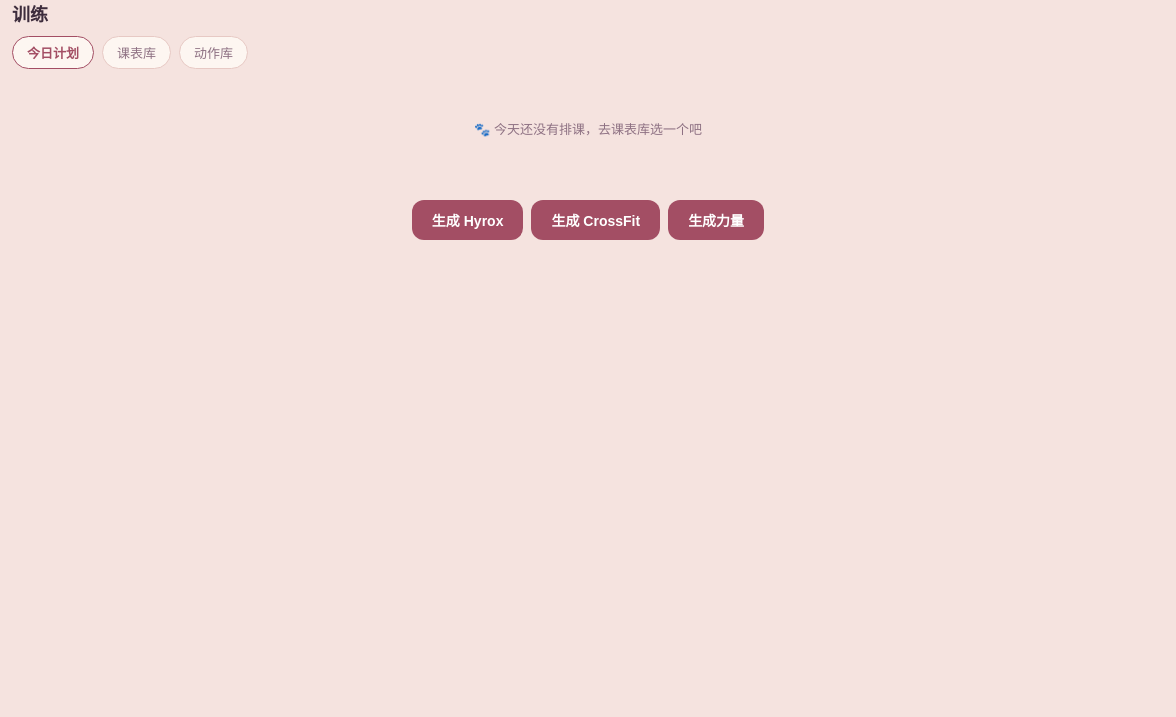
Test case: TrainView 动作库 › 点开分类板块 → 展示该分类下动作列表
The image size is (1176, 717).
Click the button "动作库": (214, 52) top-left (179, 36), bottom-right (248, 69)
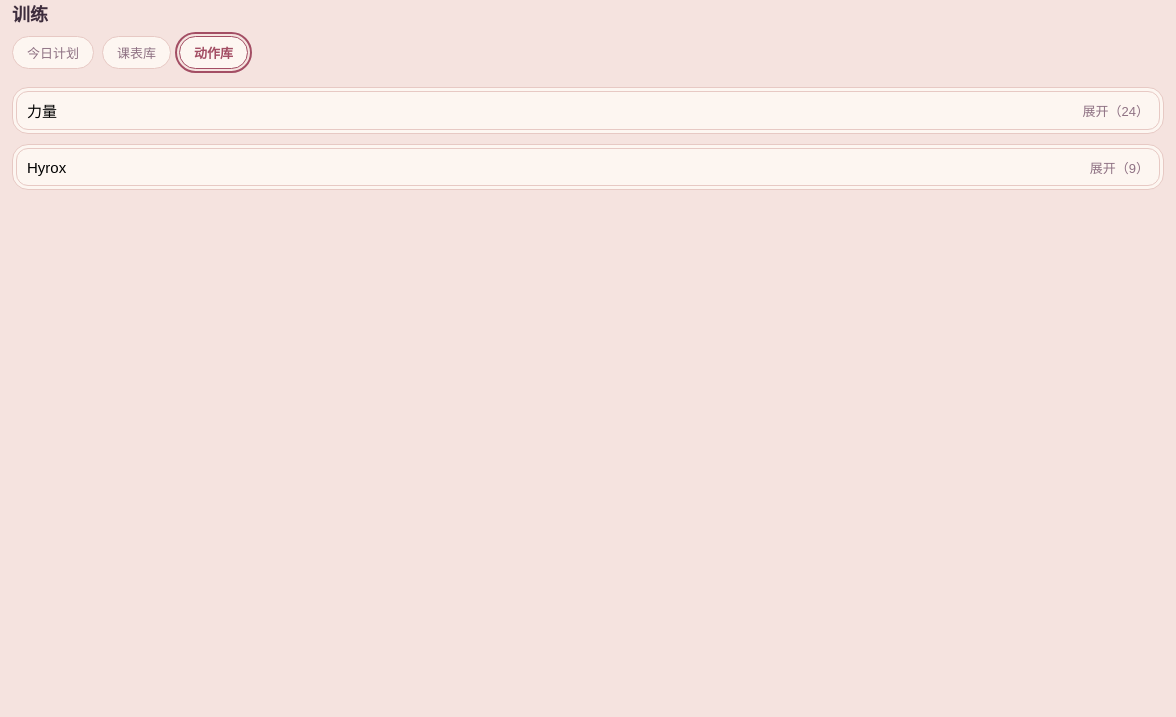
Click the text "力量": (42, 110) top-left (27, 100), bottom-right (57, 121)
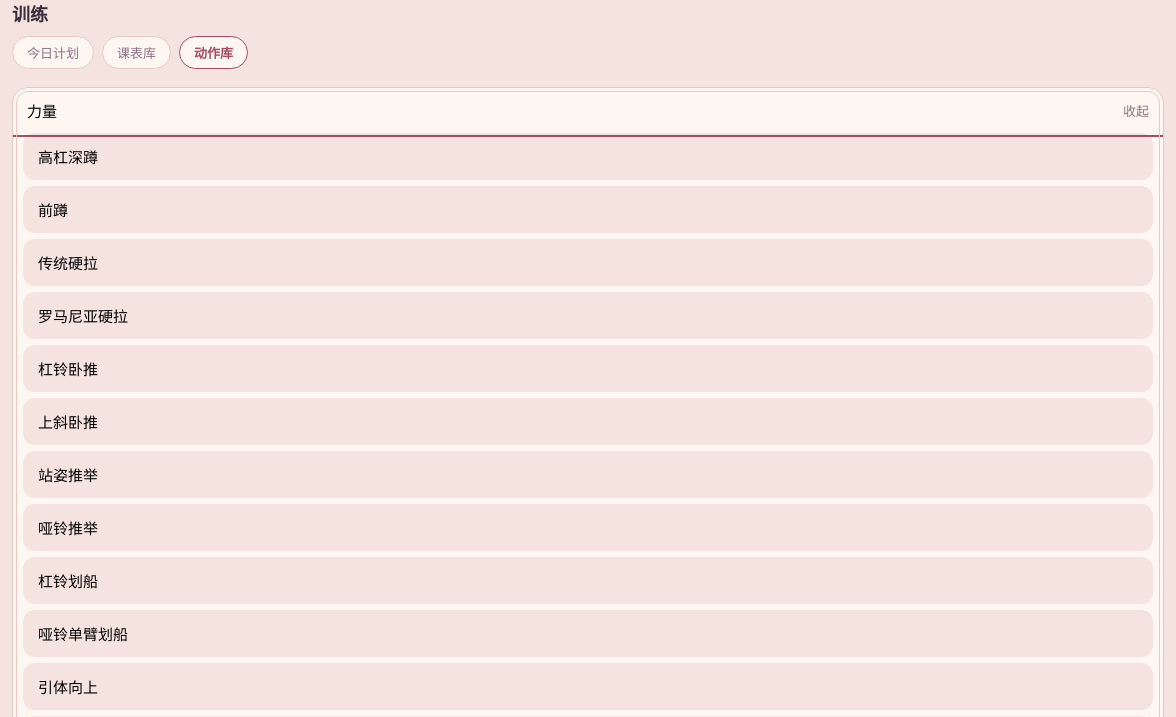
expect the button "高杠深蹲" is shown: met, box top-left (23, 133), bottom-right (1153, 180)
